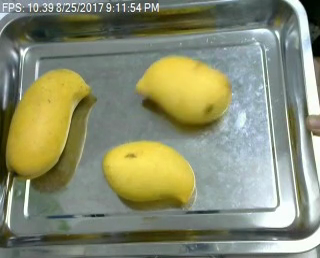Mango: (3, 63, 93, 181), (134, 49, 230, 125), (100, 139, 198, 203)
